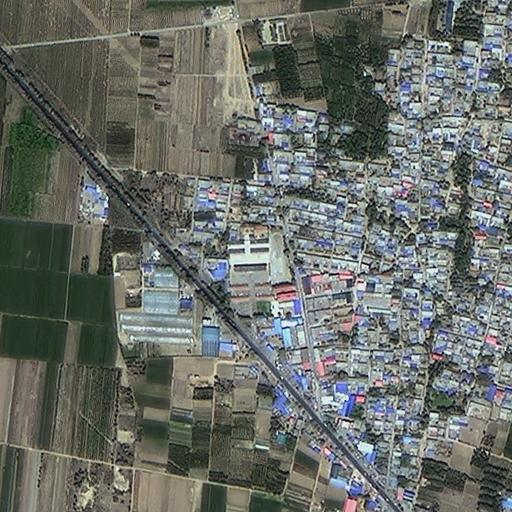school: (226, 226, 299, 309)
